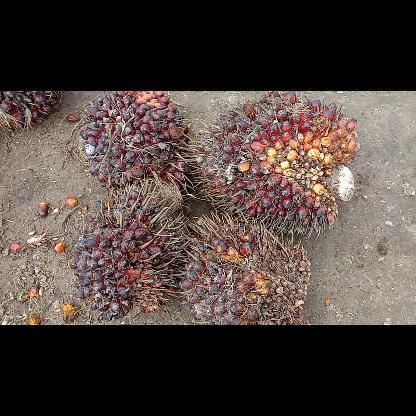TBS masak: (179, 90, 359, 235), (70, 179, 188, 321), (178, 210, 310, 324), (81, 90, 193, 194)
